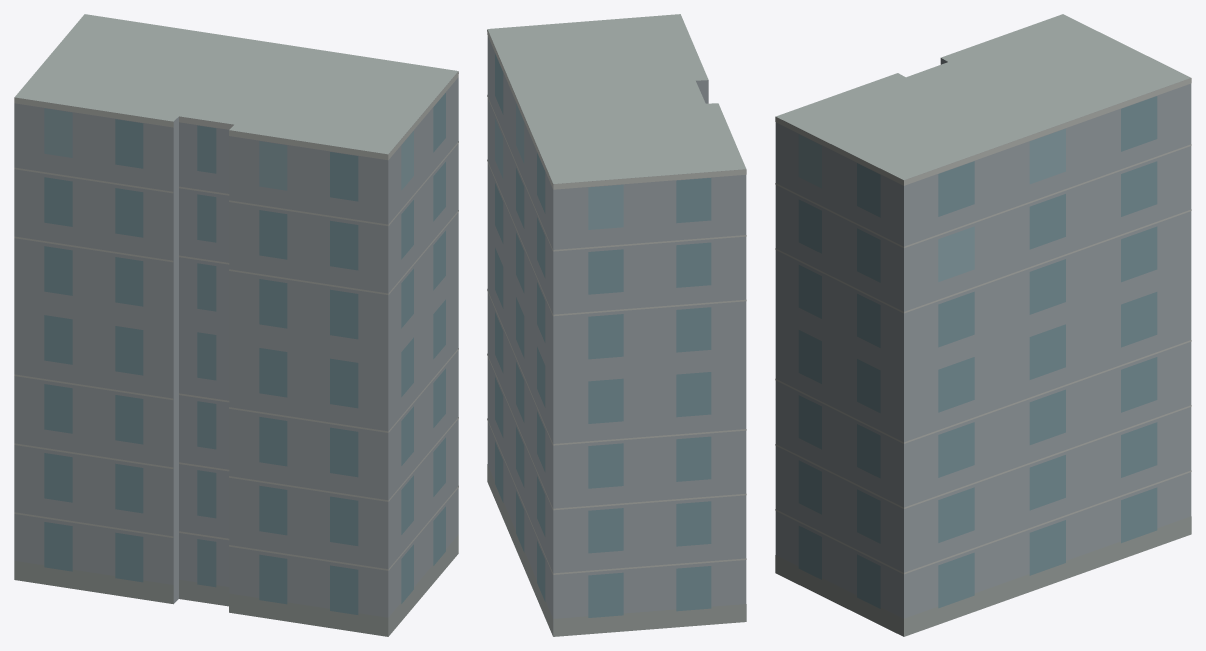
File: survey-upis-32563849.glb
3 renders of one model, left to right at view 1: azimuth 30°, elevation 25°; view 2: azimuth 150°, elevation 25°; view 3: azimuth 270°, elevation 25°, orthographic. The views are drawn at different scales.
Parts seen in each view (by area): view 1: survey-upis-32563849.tmp; view 2: survey-upis-32563849.tmp; view 3: survey-upis-32563849.tmp.
Boxes of the visible parts, <box> form: survey-upis-32563849.tmp: <box>14,14,458,636</box>; survey-upis-32563849.tmp: <box>487,14,746,636</box>; survey-upis-32563849.tmp: <box>775,14,1191,636</box>.
Size of the model in its own units: 15.48 by 19.8 by 16.36.
